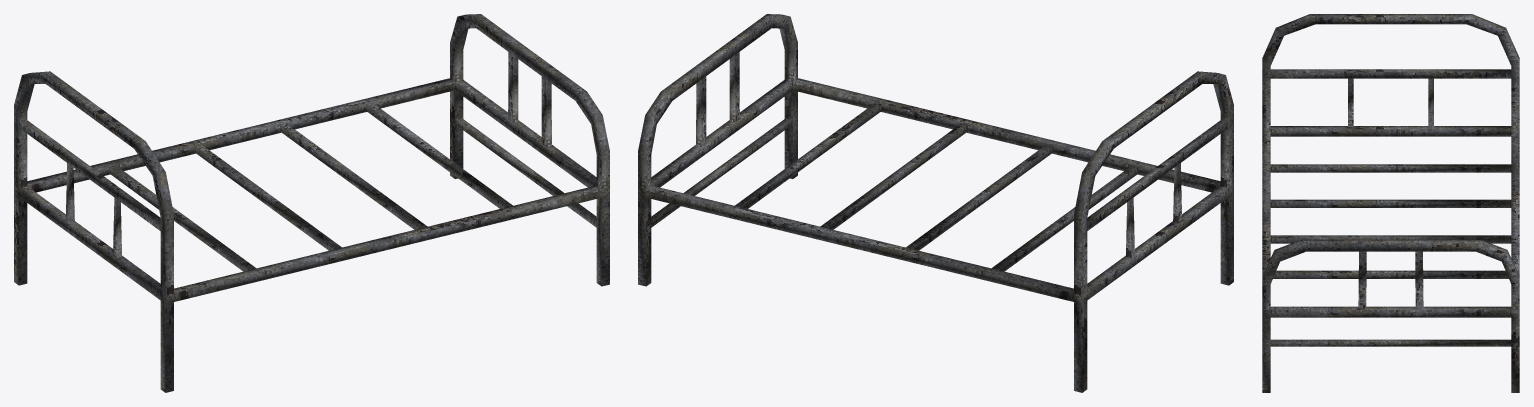
The model's file is bedframe.glb.
3 renders of one model, left to right at view 1: azimuth 30°, elevation 25°; view 2: azimuth 150°, elevation 25°; view 3: azimuth 270°, elevation 25°, orthographic. The views are drawn at different scales.
Parts seen in each view (by area): view 1: BedFrame; view 2: BedFrame; view 3: BedFrame.
Boxes of the visible parts, <box> form: BedFrame: <box>14,14,609,392</box>; BedFrame: <box>638,14,1233,392</box>; BedFrame: <box>1262,14,1519,392</box>.
Bounding box in the file's own units: 1.89 × 0.9337 × 1.12.
1 material, 1 textured.
